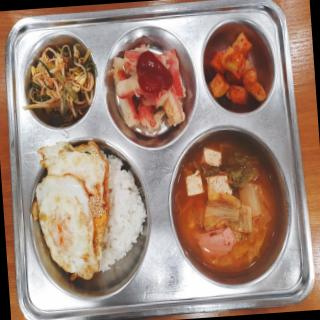Nasi: (112, 170, 141, 258)
